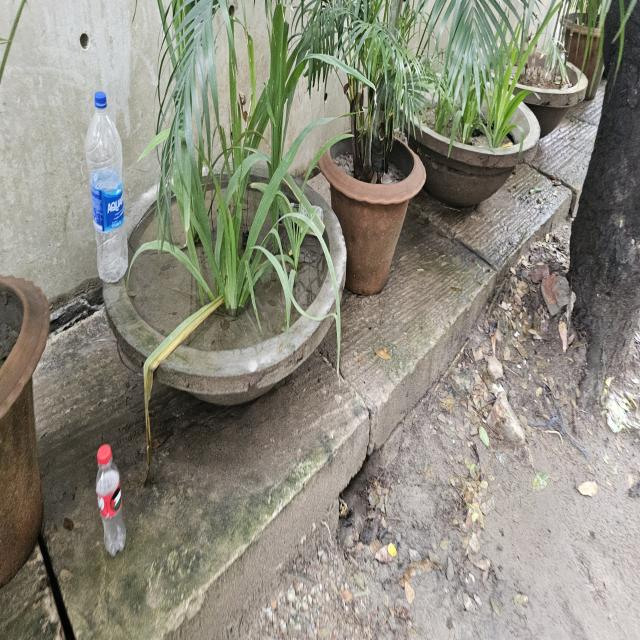artificial_container: (102, 162, 347, 403), (402, 71, 542, 208), (319, 128, 427, 295), (0, 274, 50, 588), (479, 45, 588, 139), (85, 91, 128, 281), (560, 11, 617, 100), (95, 445, 127, 558)
